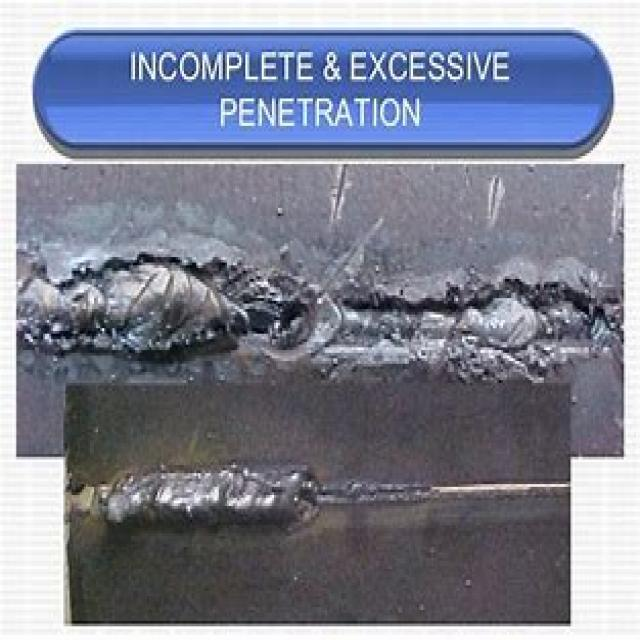Excess Reinforcement: (95, 465, 309, 536)
